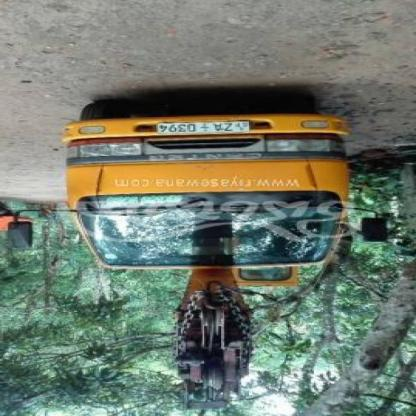truck: (14, 96, 396, 392)
